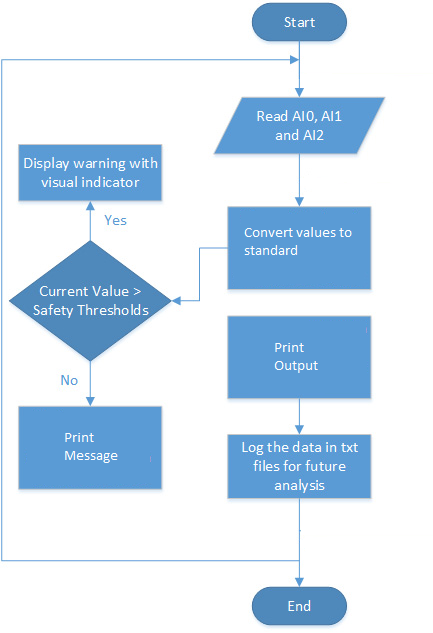arrow: (1, 55, 301, 565), (171, 243, 229, 308), (294, 498, 307, 588), (292, 150, 305, 211), (292, 37, 305, 97), (82, 200, 98, 247), (85, 355, 97, 406), (292, 399, 305, 433)
data: (208, 94, 391, 158)
decision: (6, 239, 177, 364)
process: (14, 404, 166, 493), (224, 204, 374, 292), (224, 313, 374, 401), (225, 431, 377, 502), (15, 141, 165, 203)
terminator: (248, 583, 349, 628), (250, 1, 347, 44)
text: (238, 439, 362, 494), (21, 156, 160, 188), (31, 284, 154, 319), (240, 226, 353, 255), (254, 107, 345, 141), (59, 429, 121, 466), (270, 338, 319, 374), (281, 14, 319, 31), (102, 211, 130, 227), (284, 600, 317, 613), (57, 369, 79, 387)
